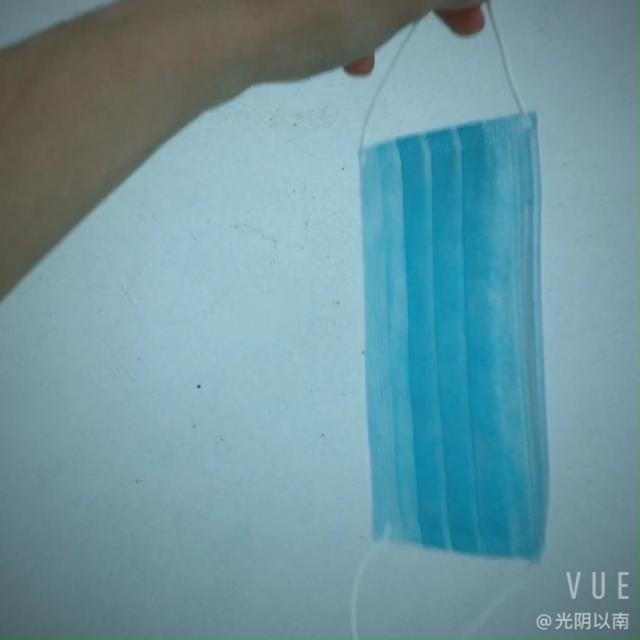non-organic waste: (321, 108, 553, 558)
